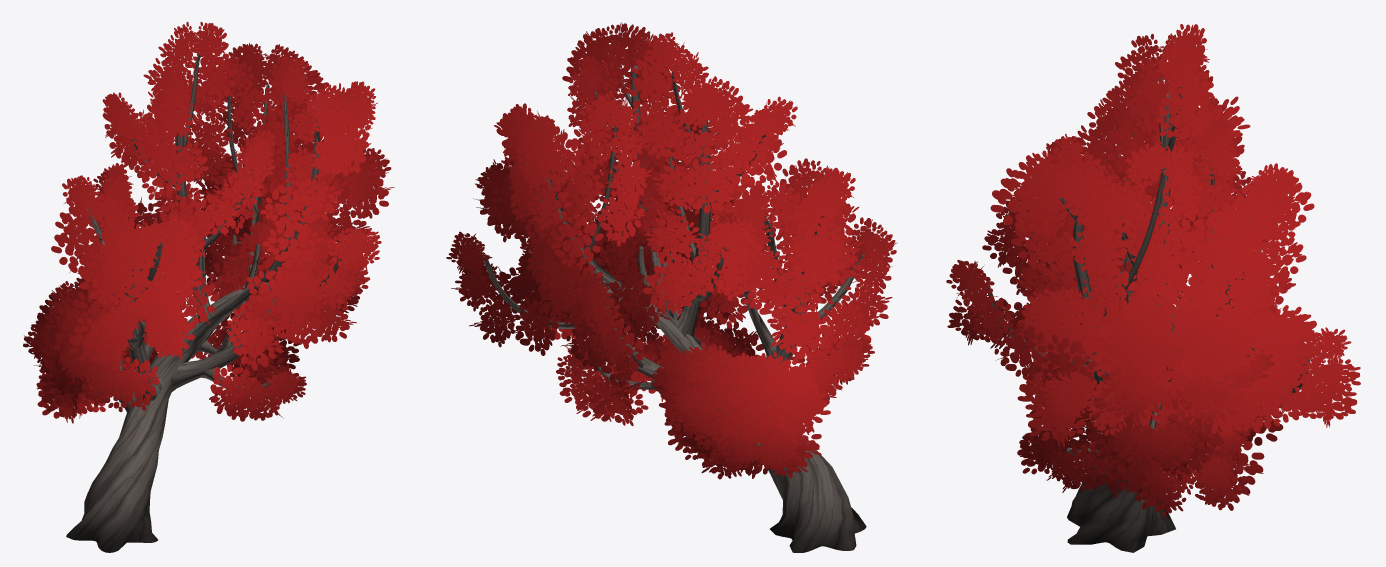
Rendered from twisted-tree-1.glb.
The picture shows the model from 3 angles, left to right: view 1: azimuth 30°, elevation 25°; view 2: azimuth 150°, elevation 25°; view 3: azimuth 270°, elevation 25°; orthographic projection. The views are drawn at different scales.
Parts seen in each view (by area): view 1: TwistedTree_1; view 2: TwistedTree_1; view 3: TwistedTree_1.
Boxes of the visible parts, x1,y1,x2,y2 form: TwistedTree_1: (23, 21, 394, 552); TwistedTree_1: (446, 22, 897, 552); TwistedTree_1: (946, 24, 1360, 552).
Bounding box in the file's own units: 13.52 × 16.73 × 11.55.
2 materials, 2 textured.
